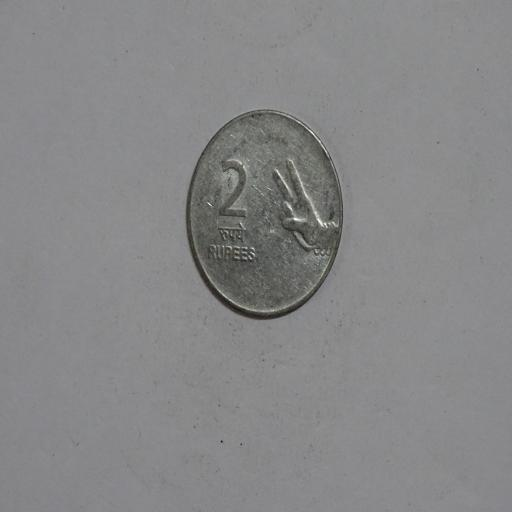rupee2: (184, 110, 342, 317)
